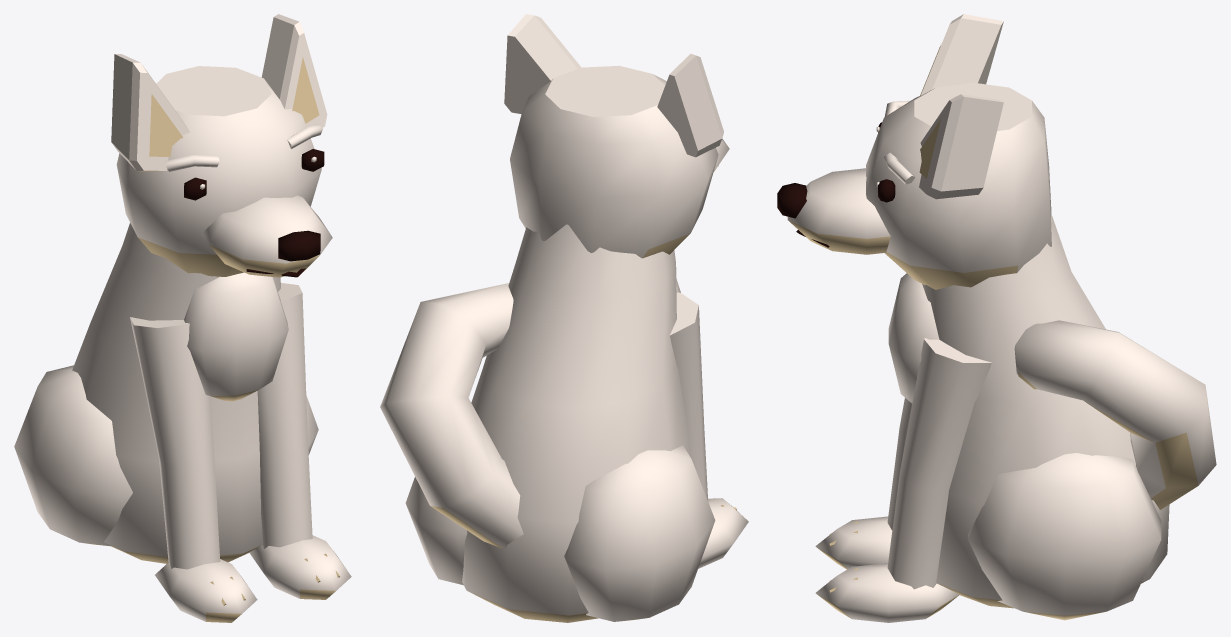
The model's file is jindo.glb.
The picture shows the model from 3 angles, left to right: view 1: azimuth 30°, elevation 25°; view 2: azimuth 150°, elevation 25°; view 3: azimuth 270°, elevation 25°; orthographic projection.
Parts seen in each view (by area): view 1: jindo; view 2: jindo; view 3: jindo.
Boxes of the visible parts, x1,y1,x2,y2 form: jindo: (14,14,351,622); jindo: (380,14,748,622); jindo: (777,14,1216,622).
Size of the model in its own units: 0.68 by 1.28 by 0.946.
Materials: 1 (1 with a texture image).
